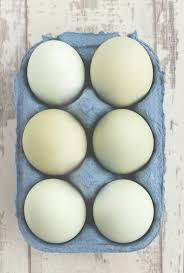egg: (92, 178, 162, 246), (90, 38, 156, 106), (24, 177, 84, 251), (24, 39, 84, 110), (92, 110, 156, 175), (24, 112, 88, 173)
